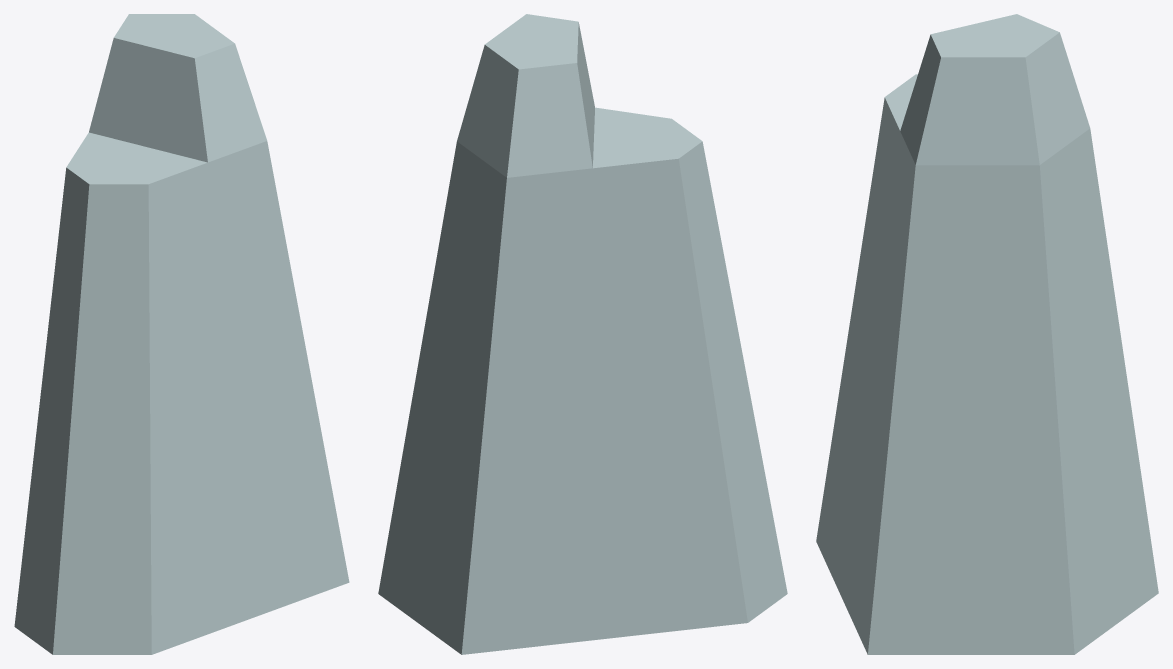
File: stone_tallC.gltf
3 renders of one model, left to right at view 1: azimuth 30°, elevation 25°; view 2: azimuth 150°, elevation 25°; view 3: azimuth 270°, elevation 25°, orthographic. The views are drawn at different scales.
Parts seen in each view (by area): view 1: stone_tallC; view 2: stone_tallC; view 3: stone_tallC.
Part boxes in pixels (x1=…): stone_tallC: x1=14, y1=14, x2=349, y2=654; stone_tallC: x1=378, y1=14, x2=787, y2=654; stone_tallC: x1=816, y1=14, x2=1158, y2=654.
Size of the model in its own units: 0.4562 by 0.7829 by 0.4365.
